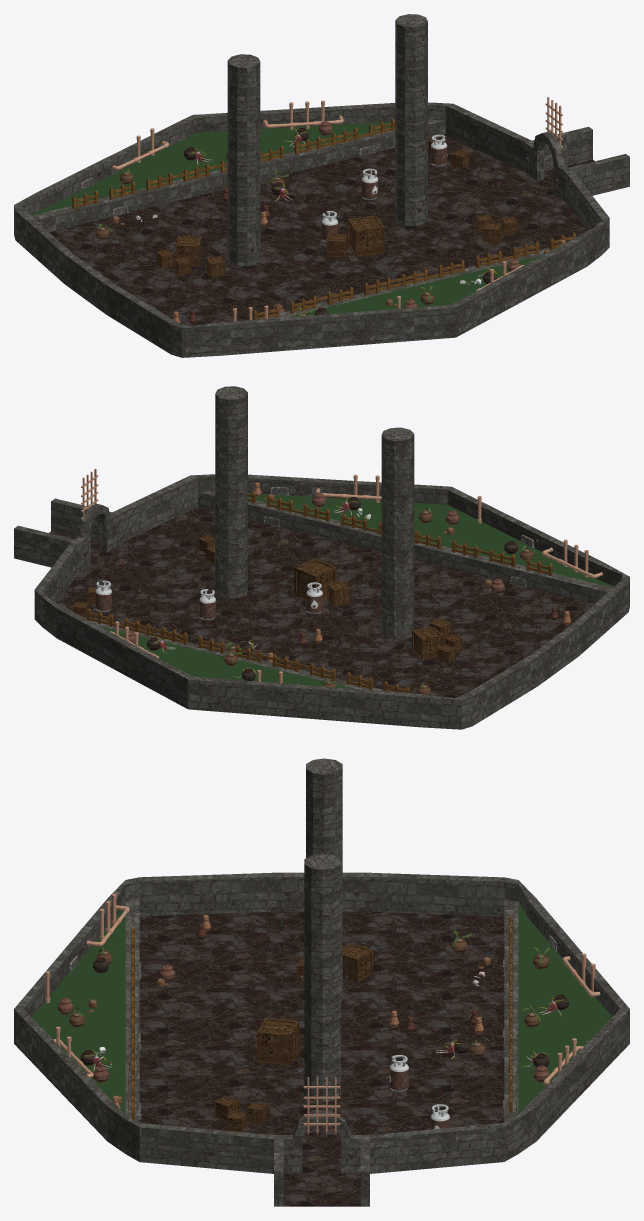
Rendered from room_base_O_garden_40x40.glb.
3 views of the same model, one above another, from view 1: azimuth 30°, elevation 25°; view 2: azimuth 150°, elevation 25°; view 3: azimuth 270°, elevation 25° (orthographic). The views are drawn at different scales.
Visible parts, largest first — view 1: Plane.001, floor, Cylinder.042, Cylinder.043, Cube.002, Cube, gate.003; view 2: Plane.001, floor, Cylinder.042, Cylinder.043, Cube, Cube.002, Cube.016_cell.003, gate.003; view 3: floor, Plane.001, Cylinder.043, Cylinder.042, gate.003, Cube, Cube.002, Cube.016_cell.003.
Boxes of the visible parts, bbox=[...] form: Plane.001: bbox=[14, 102, 629, 357]; floor: bbox=[49, 135, 594, 326]; Cylinder.042: bbox=[227, 54, 260, 266]; Cylinder.043: bbox=[395, 14, 427, 226]; Cube.002: bbox=[253, 232, 575, 319]; Cube: bbox=[72, 118, 395, 208]; gate.003: bbox=[545, 97, 562, 147]; Plane.001: bbox=[14, 474, 629, 729]; floor: bbox=[49, 507, 594, 697]; Cylinder.042: bbox=[381, 427, 414, 639]; Cylinder.043: bbox=[215, 386, 247, 598]; Cube: bbox=[87, 608, 409, 693]; Cube.002: bbox=[248, 491, 552, 576]; Cube.016_cell.003: bbox=[294, 563, 320, 598]; gate.003: bbox=[81, 469, 98, 519]; floor: bbox=[139, 911, 504, 1206]; Plane.001: bbox=[14, 872, 629, 1206]; Cylinder.043: bbox=[304, 853, 340, 1101]; Cylinder.042: bbox=[306, 758, 342, 1001]; gate.003: bbox=[303, 1077, 340, 1134]; Cube: bbox=[509, 916, 512, 1112]; Cube.002: bbox=[131, 927, 134, 1119]; Cube.016_cell.003: bbox=[274, 1023, 297, 1061].
Bounding box in the file's own units: 36.74 × 13.41 × 32.
20 materials, 20 textured.
